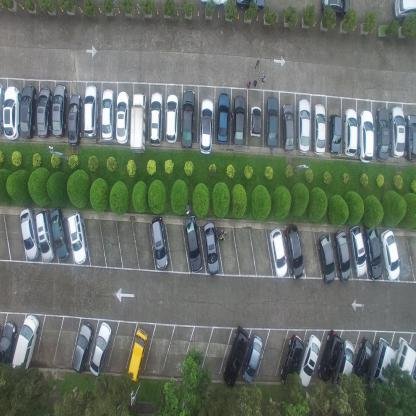car: (12, 313, 40, 376), (222, 326, 249, 389), (366, 337, 396, 393), (389, 336, 415, 394), (316, 328, 343, 383), (350, 337, 374, 393), (331, 338, 354, 396), (297, 334, 321, 388), (87, 322, 110, 378), (280, 335, 304, 388), (18, 206, 40, 261), (126, 327, 148, 381), (71, 321, 93, 373), (363, 220, 382, 280), (66, 210, 86, 266), (379, 227, 400, 280), (48, 207, 68, 262), (284, 224, 304, 279), (34, 208, 54, 262), (240, 334, 262, 382), (184, 214, 202, 272), (130, 91, 146, 155), (3, 84, 21, 139), (150, 215, 168, 269), (348, 223, 366, 277), (19, 83, 36, 140), (333, 230, 351, 283), (268, 226, 286, 279), (198, 98, 214, 156), (180, 90, 195, 150), (374, 106, 390, 162), (51, 82, 67, 138), (202, 220, 218, 275), (388, 105, 404, 160), (83, 82, 98, 140), (66, 93, 82, 147), (0, 322, 17, 372), (358, 110, 374, 163), (317, 234, 334, 283), (35, 86, 51, 138), (296, 97, 310, 153), (311, 102, 325, 155), (115, 91, 129, 144), (216, 93, 230, 144), (232, 94, 245, 148), (343, 108, 357, 157), (150, 90, 162, 147), (100, 88, 113, 140), (165, 93, 178, 144), (281, 102, 294, 152), (265, 95, 277, 149), (327, 113, 341, 156), (320, 0, 350, 20), (403, 113, 415, 162), (394, 0, 416, 23), (248, 105, 261, 139), (235, 0, 265, 12), (0, 82, 5, 136), (199, 0, 227, 9)
